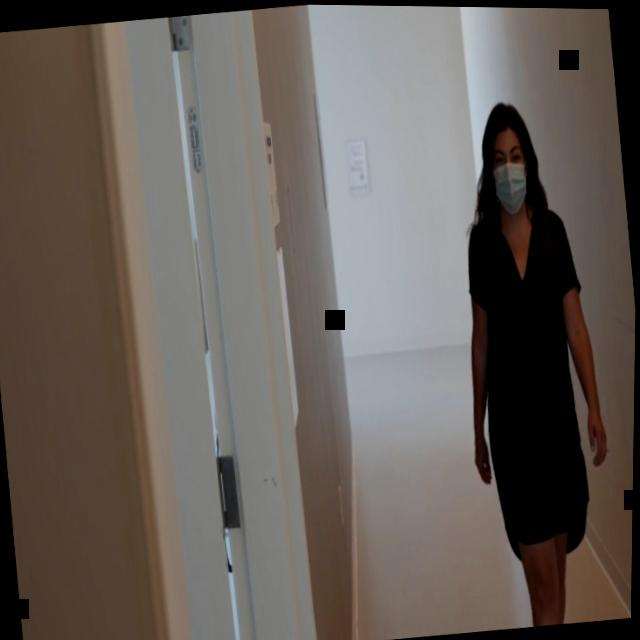Mask: (487, 120, 534, 217)
